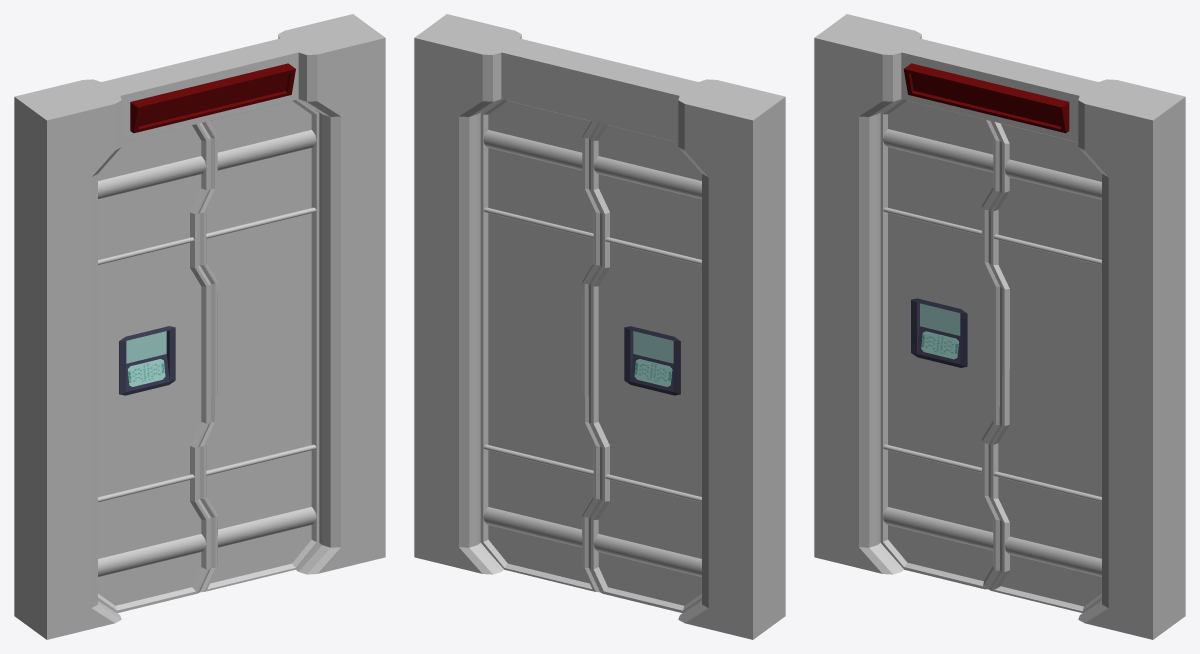
The model's file is Future_Door_Final.fbx.
3 views of the same model, side by side, from view 1: azimuth 30°, elevation 25°; view 2: azimuth 150°, elevation 25°; view 3: azimuth 330°, elevation 25° (orthographic).
Parts seen in each view (by area): view 1: Frame_Door_Final, Right_Door_Final, Left_Door_Final, Signal_Final, KeyLock_Keyboard_Final; view 2: Frame_Door_Final, Right_Door_Final, Left_Door_Final, KeyLock_Keyboard_Final; view 3: Frame_Door_Final, Left_Door_Final, Right_Door_Final, Signal_Final, KeyLock_Keyboard_Final.
Part boxes in pixels (<box>): Frame_Door_Final: <box>14,14,385,639</box>; Right_Door_Final: <box>200,99,319,592</box>; Left_Door_Final: <box>98,122,211,612</box>; Signal_Final: <box>130,63,295,133</box>; KeyLock_Keyboard_Final: <box>119,326,175,395</box>; Frame_Door_Final: <box>414,14,785,639</box>; Right_Door_Final: <box>480,99,599,592</box>; Left_Door_Final: <box>588,122,701,612</box>; KeyLock_Keyboard_Final: <box>624,326,680,395</box>; Frame_Door_Final: <box>814,14,1185,639</box>; Left_Door_Final: <box>880,99,999,589</box>; Right_Door_Final: <box>988,121,1101,612</box>; Signal_Final: <box>903,63,1069,133</box>; KeyLock_Keyboard_Final: <box>911,298,967,367</box>.
Size of the model in its own units: 150 by 220 by 25.67.
